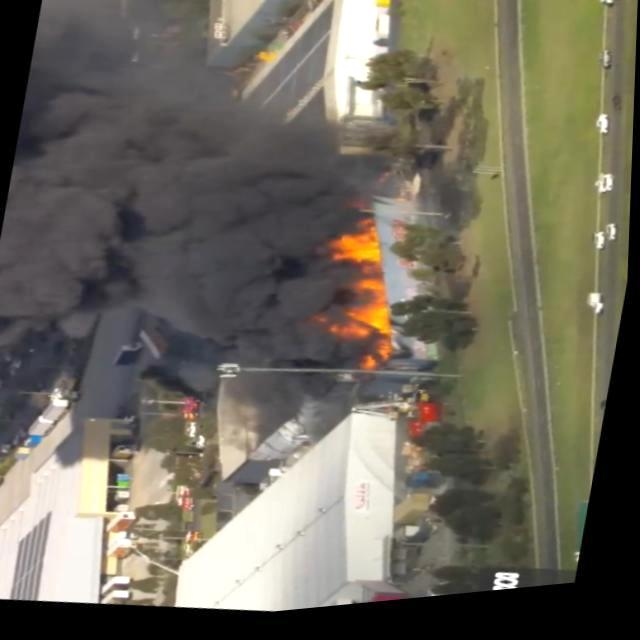fire: (326, 283, 404, 385), (324, 227, 388, 279)
